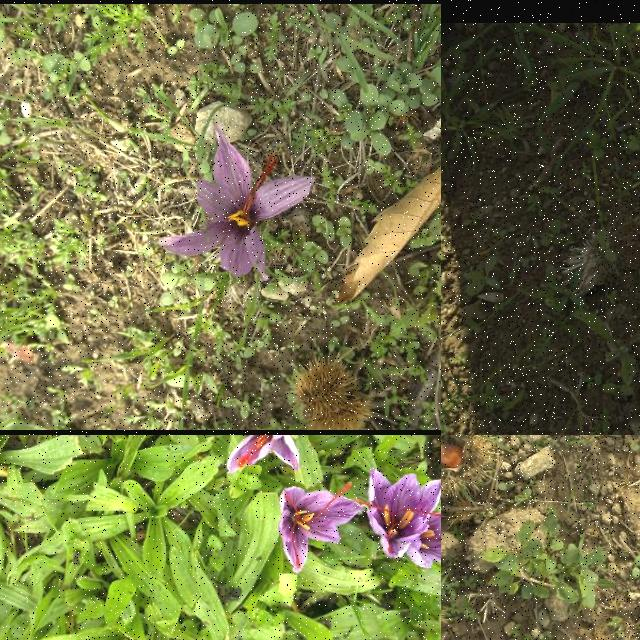flower: (158, 128, 316, 282), (279, 482, 361, 574), (227, 435, 301, 474)
overlap: (357, 469, 441, 570)
